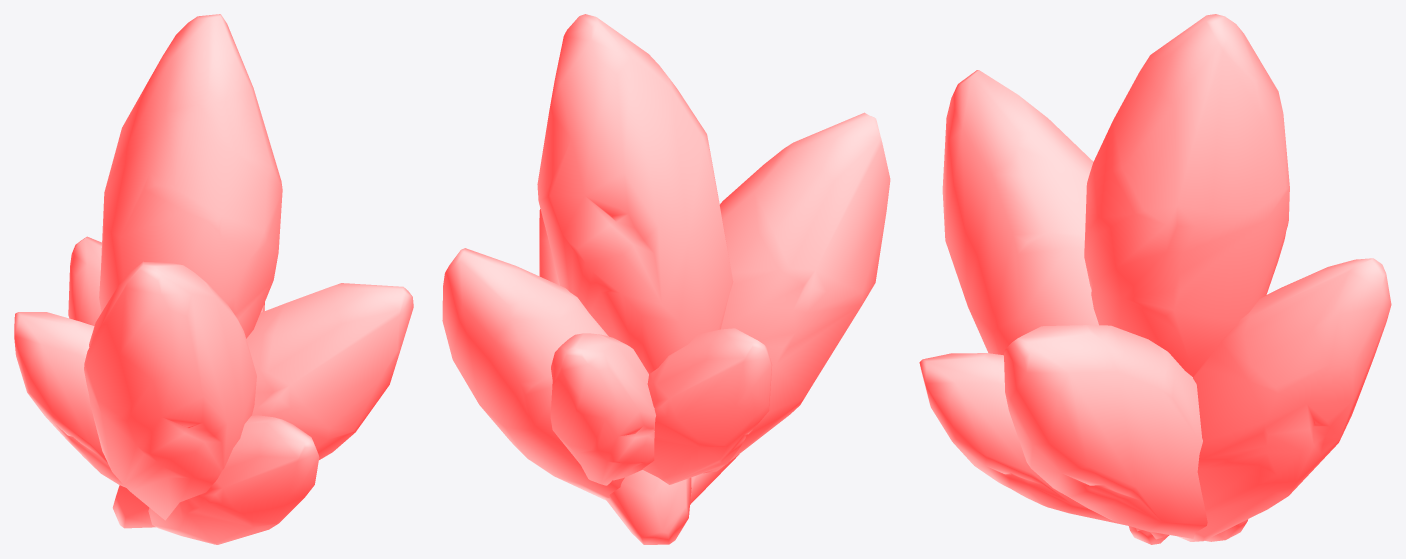
File: GreenObject.fbx
The picture shows the model from 3 angles, left to right: view 1: azimuth 30°, elevation 25°; view 2: azimuth 150°, elevation 25°; view 3: azimuth 270°, elevation 25°; orthographic projection. The views are drawn at different scales.
Parts seen in each view (by area): view 1: BetterCrystal01, BetterCrystal01__1_, BetterCrystal01__4_, BetterCrystal01__6_, BetterCrystal01__3_, BetterCrystal01__2_; view 2: BetterCrystal01, BetterCrystal01__1_, BetterCrystal01__5_, BetterCrystal01__3_, BetterCrystal01__2_, BetterCrystal01__4_, BetterCrystal01__6_; view 3: BetterCrystal01, BetterCrystal01__5_, BetterCrystal01__4_, BetterCrystal01__1_, BetterCrystal01__6_.
Part boxes in pixels (x1,y1,x2,y2): BetterCrystal01: [99, 14, 282, 338]; BetterCrystal01__1_: [84, 261, 256, 520]; BetterCrystal01__4_: [112, 283, 413, 528]; BetterCrystal01__6_: [148, 415, 319, 544]; BetterCrystal01__3_: [14, 312, 125, 487]; BetterCrystal01__2_: [68, 236, 101, 325]; BetterCrystal01: [537, 14, 733, 373]; BetterCrystal01__1_: [703, 112, 890, 473]; BetterCrystal01__5_: [442, 248, 624, 500]; BetterCrystal01__3_: [642, 328, 772, 484]; BetterCrystal01__2_: [550, 333, 655, 485]; BetterCrystal01__4_: [539, 209, 691, 544]; BetterCrystal01__6_: [690, 454, 739, 504]; BetterCrystal01: [1084, 14, 1289, 376]; BetterCrystal01__5_: [1177, 258, 1391, 541]; BetterCrystal01__4_: [1004, 325, 1248, 541]; BetterCrystal01__1_: [942, 70, 1098, 355]; BetterCrystal01__6_: [919, 353, 1128, 525].
Bounding box in the file's own units: 303 × 458 × 356.
